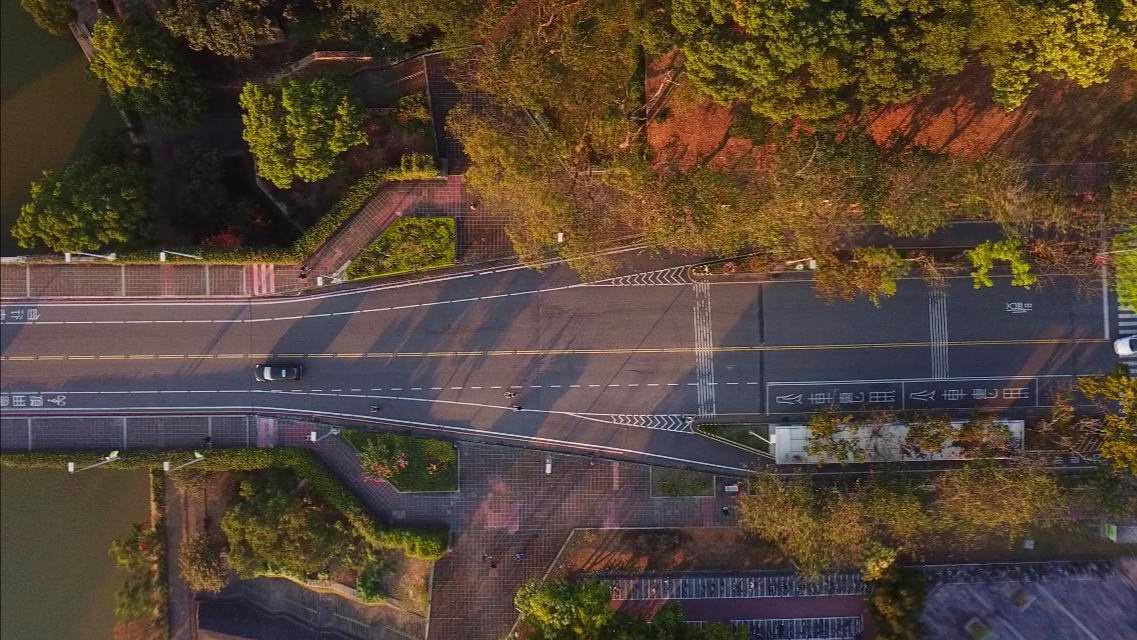vehicle: (254, 363, 301, 382), (1112, 334, 1136, 357)
